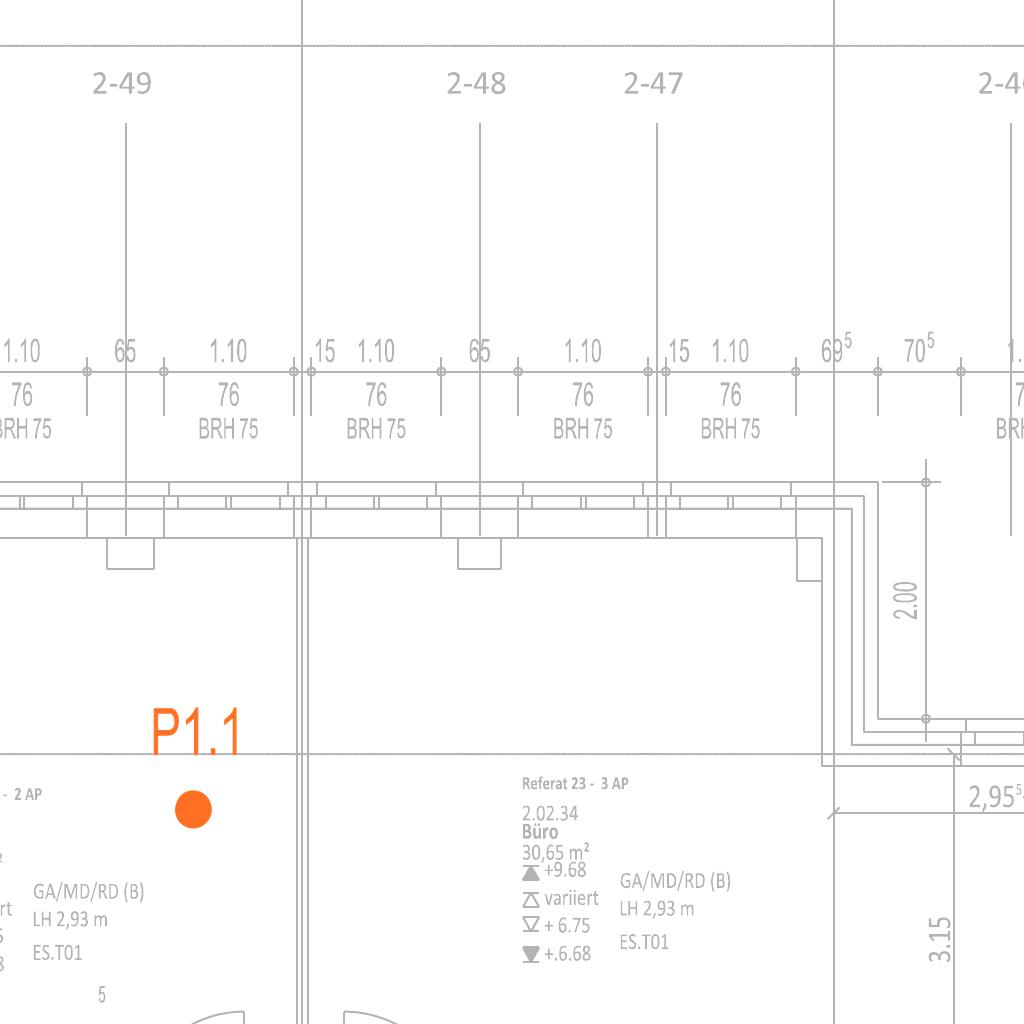Downlight_LED_Einbauleuchten_Flur_2: (150, 704, 243, 832)
